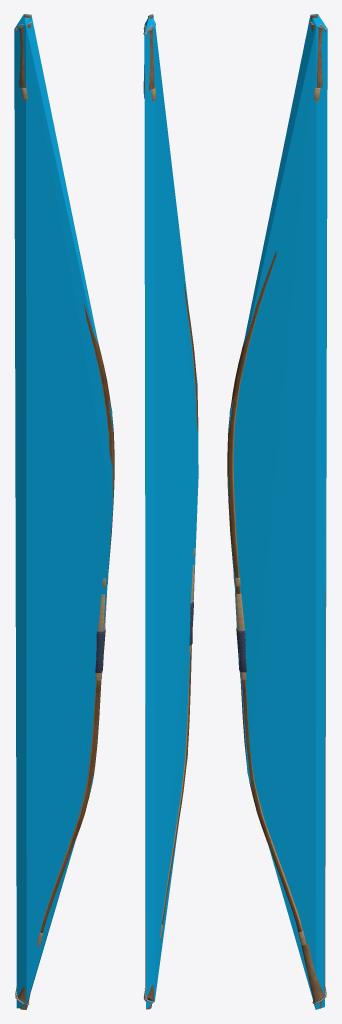
File: JWC_Weapon_Yumi_A_01.fbx
3 renders of one model, left to right at view 1: azimuth 90°, elevation 25°; view 2: azimuth 150°, elevation 25°; view 3: azimuth 270°, elevation 25°, orthographic.
Visible parts, largest first — view 1: C_JWC_Weapon_Yumi_A_01, JWC_Weapon_Yumi_A_01; view 2: C_JWC_Weapon_Yumi_A_01, JWC_Weapon_Yumi_A_01; view 3: C_JWC_Weapon_Yumi_A_01, JWC_Weapon_Yumi_A_01.
Part boxes in pixels (x1=…): C_JWC_Weapon_Yumi_A_01: x1=14, y1=14, x2=112, y2=1008; JWC_Weapon_Yumi_A_01: x1=14, y1=14, x2=114, y2=1009; C_JWC_Weapon_Yumi_A_01: x1=144, y1=14, x2=198, y2=1009; JWC_Weapon_Yumi_A_01: x1=143, y1=14, x2=198, y2=1009; C_JWC_Weapon_Yumi_A_01: x1=228, y1=14, x2=327, y2=1009; JWC_Weapon_Yumi_A_01: x1=227, y1=14, x2=327, y2=1008.
Bounding box in the file's own units: 0.0318 × 2.57 × 0.2353.
